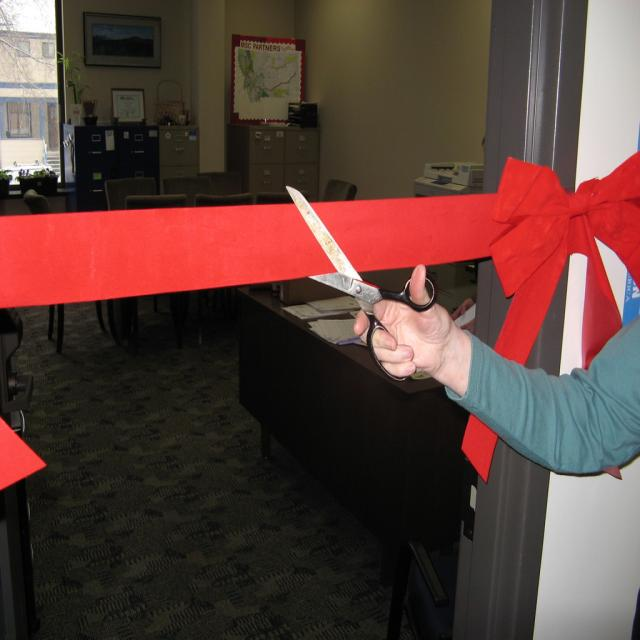scissors: (285, 184, 437, 383)
